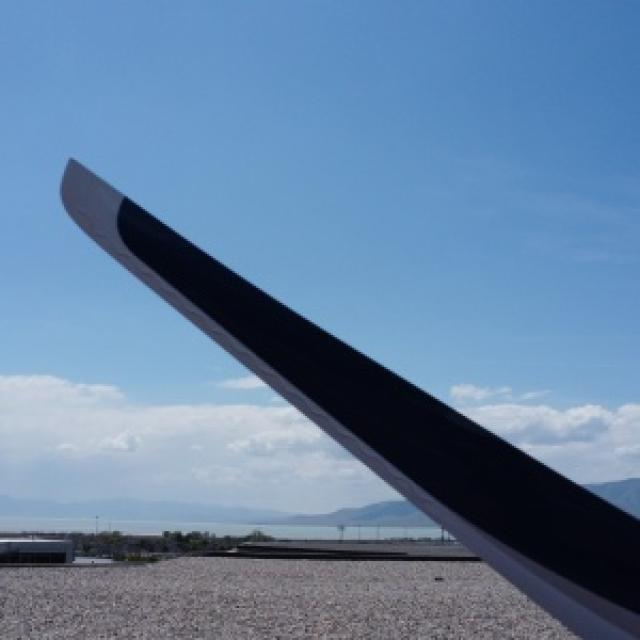healthy: (64, 160, 638, 638)
